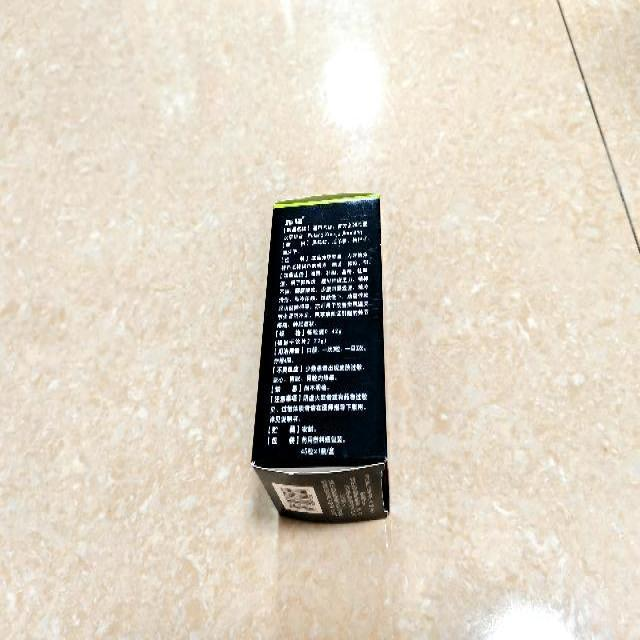box: (250, 192, 392, 520)
